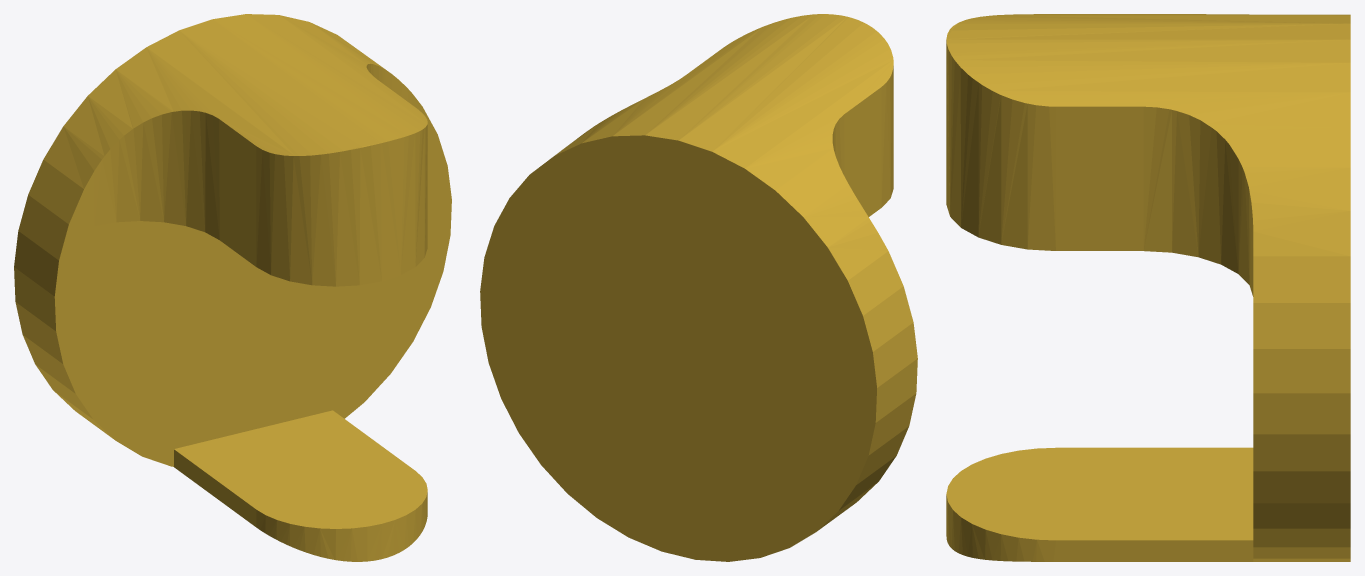
File: rotary_output.dae
The picture shows the model from 3 angles, left to right: view 1: azimuth 30°, elevation 25°; view 2: azimuth 150°, elevation 25°; view 3: azimuth 270°, elevation 25°; orthographic projection. The views are drawn at different scales.
Visible parts, largest first — view 1: Rotary_Output; view 2: Rotary_Output; view 3: Rotary_Output.
Part boxes in pixels (x1,y1,x2,y2): Rotary_Output: (14, 14, 451, 561); Rotary_Output: (480, 14, 917, 561); Rotary_Output: (946, 14, 1350, 561).
Size of the model in its own units: 0.0508 by 0.0375 by 0.0508.
